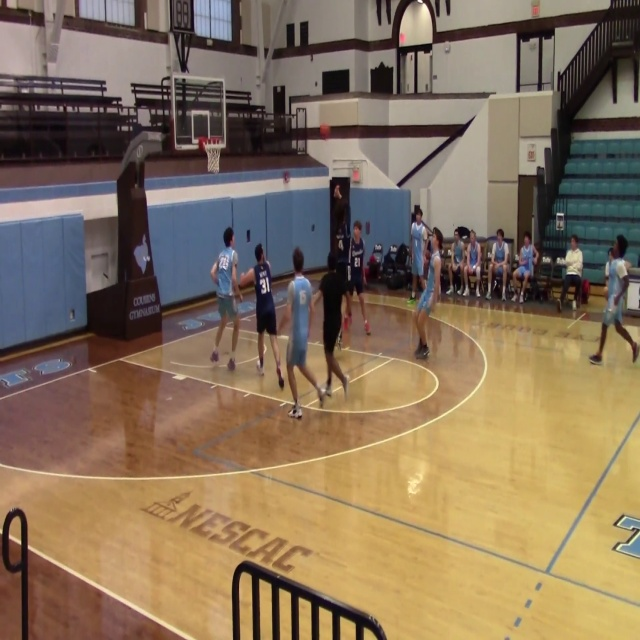Basketball: (319, 124, 330, 139), (351, 169, 360, 182), (406, 298, 415, 305)
